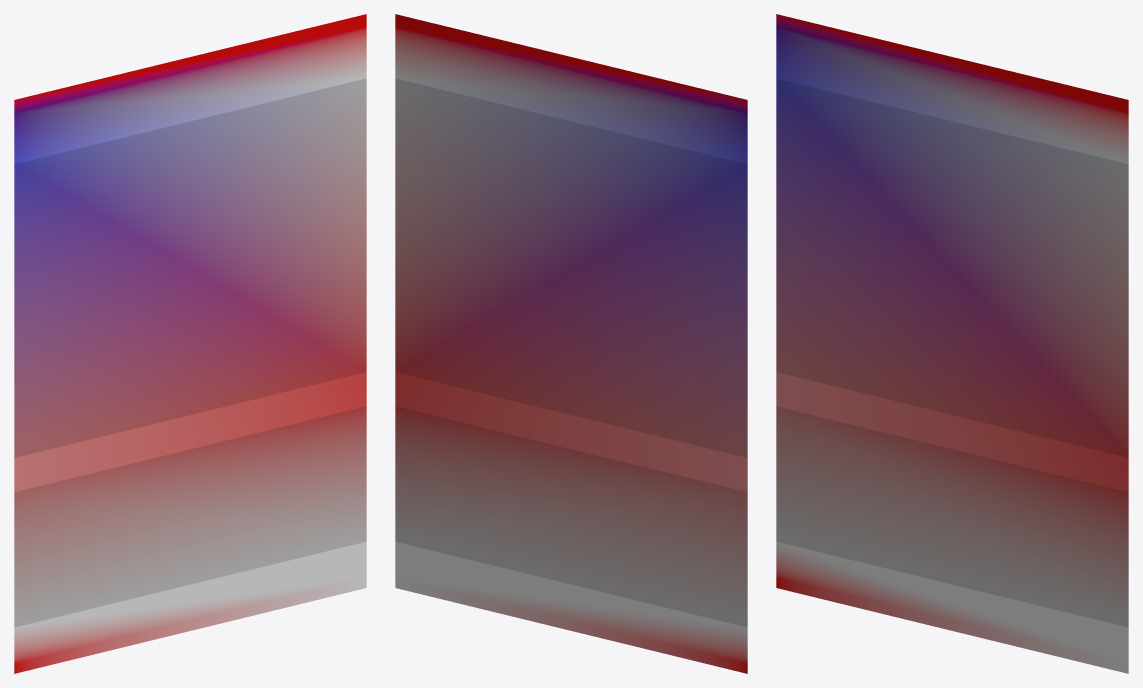
The picture shows the model from 3 angles, left to right: view 1: azimuth 30°, elevation 25°; view 2: azimuth 150°, elevation 25°; view 3: azimuth 330°, elevation 25°; orthographic projection.
Visible parts, largest first — view 1: SM_Bathroom_Wall_01_LOD0; view 2: SM_Bathroom_Wall_01_LOD0; view 3: SM_Bathroom_Wall_01_LOD0.
Part boxes in pixels (box(x1,y1,x2,y2)): SM_Bathroom_Wall_01_LOD0: box(14, 14, 366, 673); SM_Bathroom_Wall_01_LOD0: box(395, 14, 747, 673); SM_Bathroom_Wall_01_LOD0: box(776, 14, 1128, 673).
Bounding box in the file's own units: 225 × 2.68e-05 × 350.
